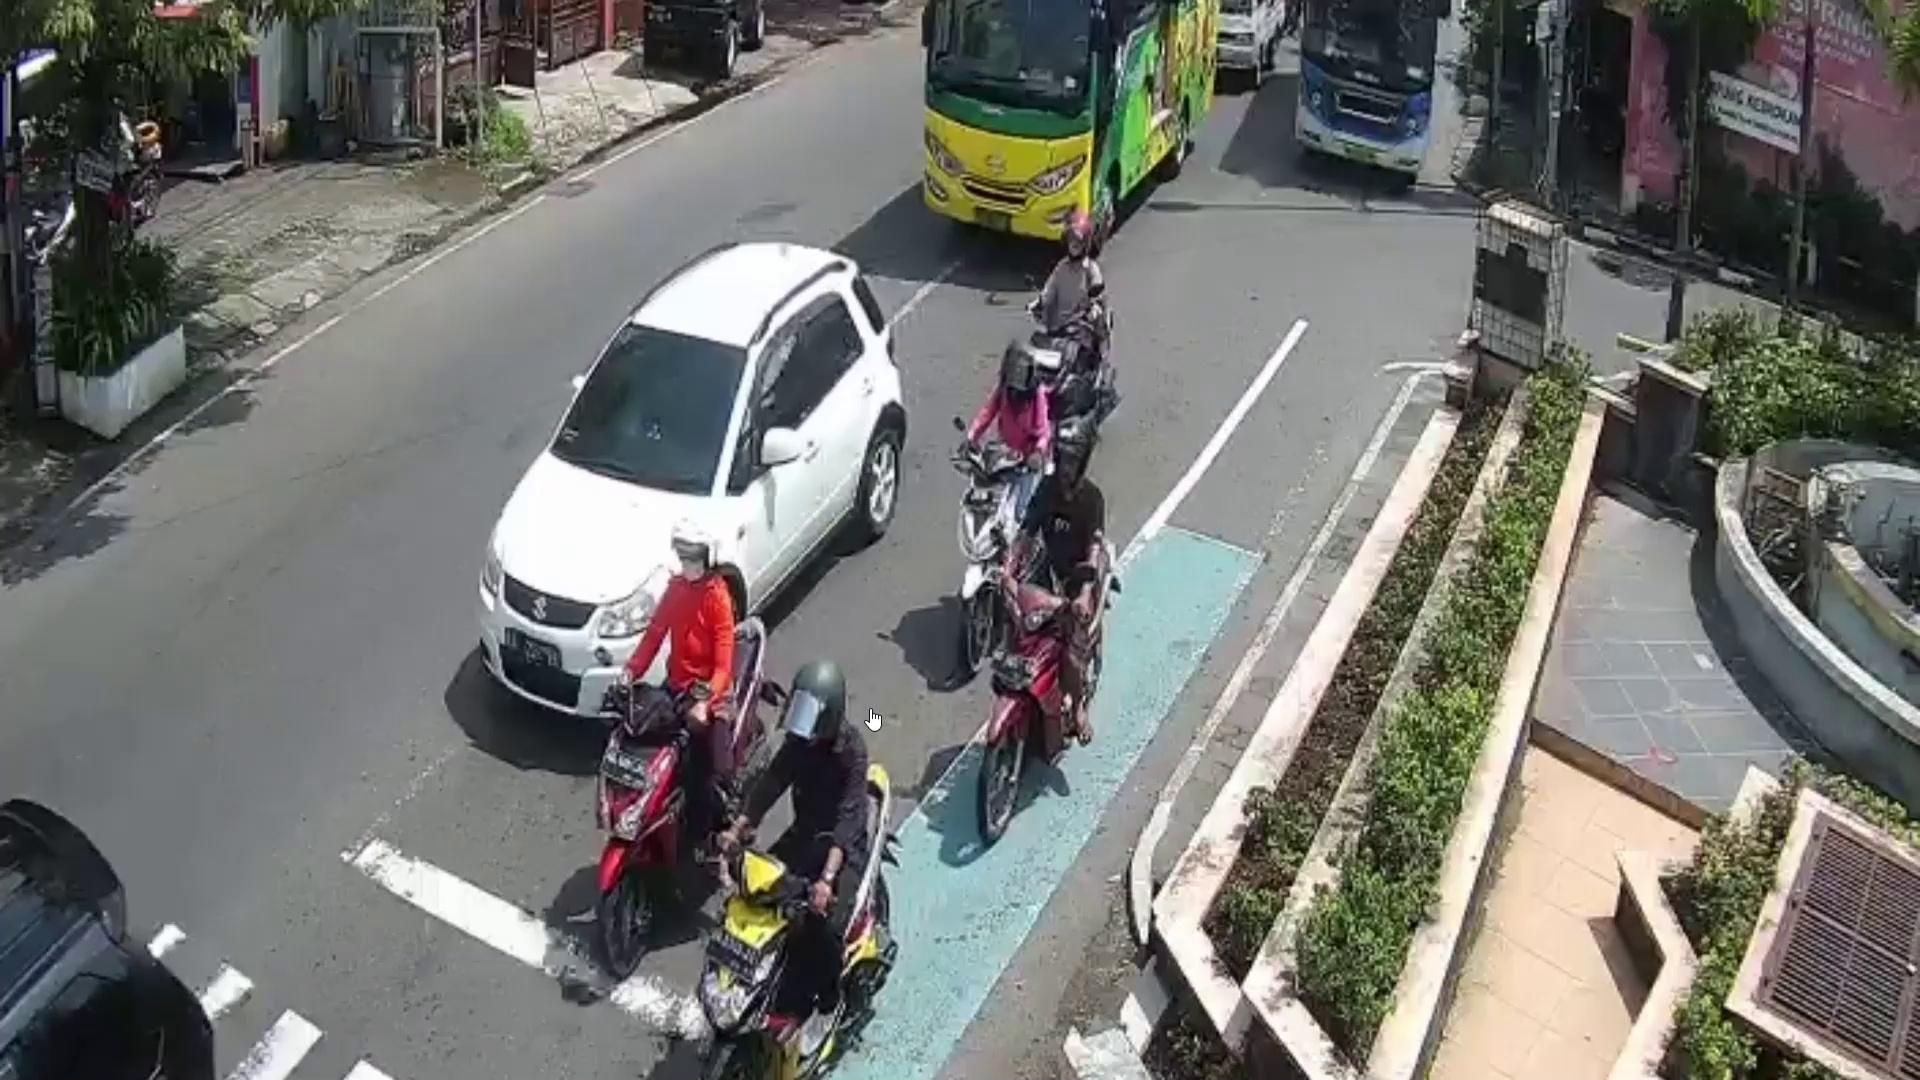bus: (916, 0, 1225, 240), (1288, 0, 1436, 187)
car: (467, 241, 901, 719)
motorbike: (599, 618, 783, 975), (699, 765, 898, 1080), (976, 531, 1117, 836), (952, 443, 1030, 683), (1034, 297, 1114, 438)
